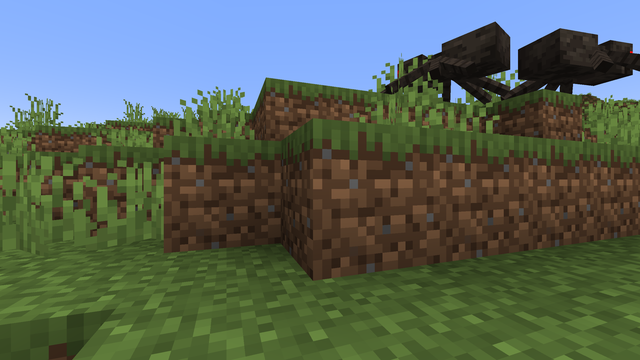araignees: (382, 16, 508, 104), (521, 4, 635, 100)
